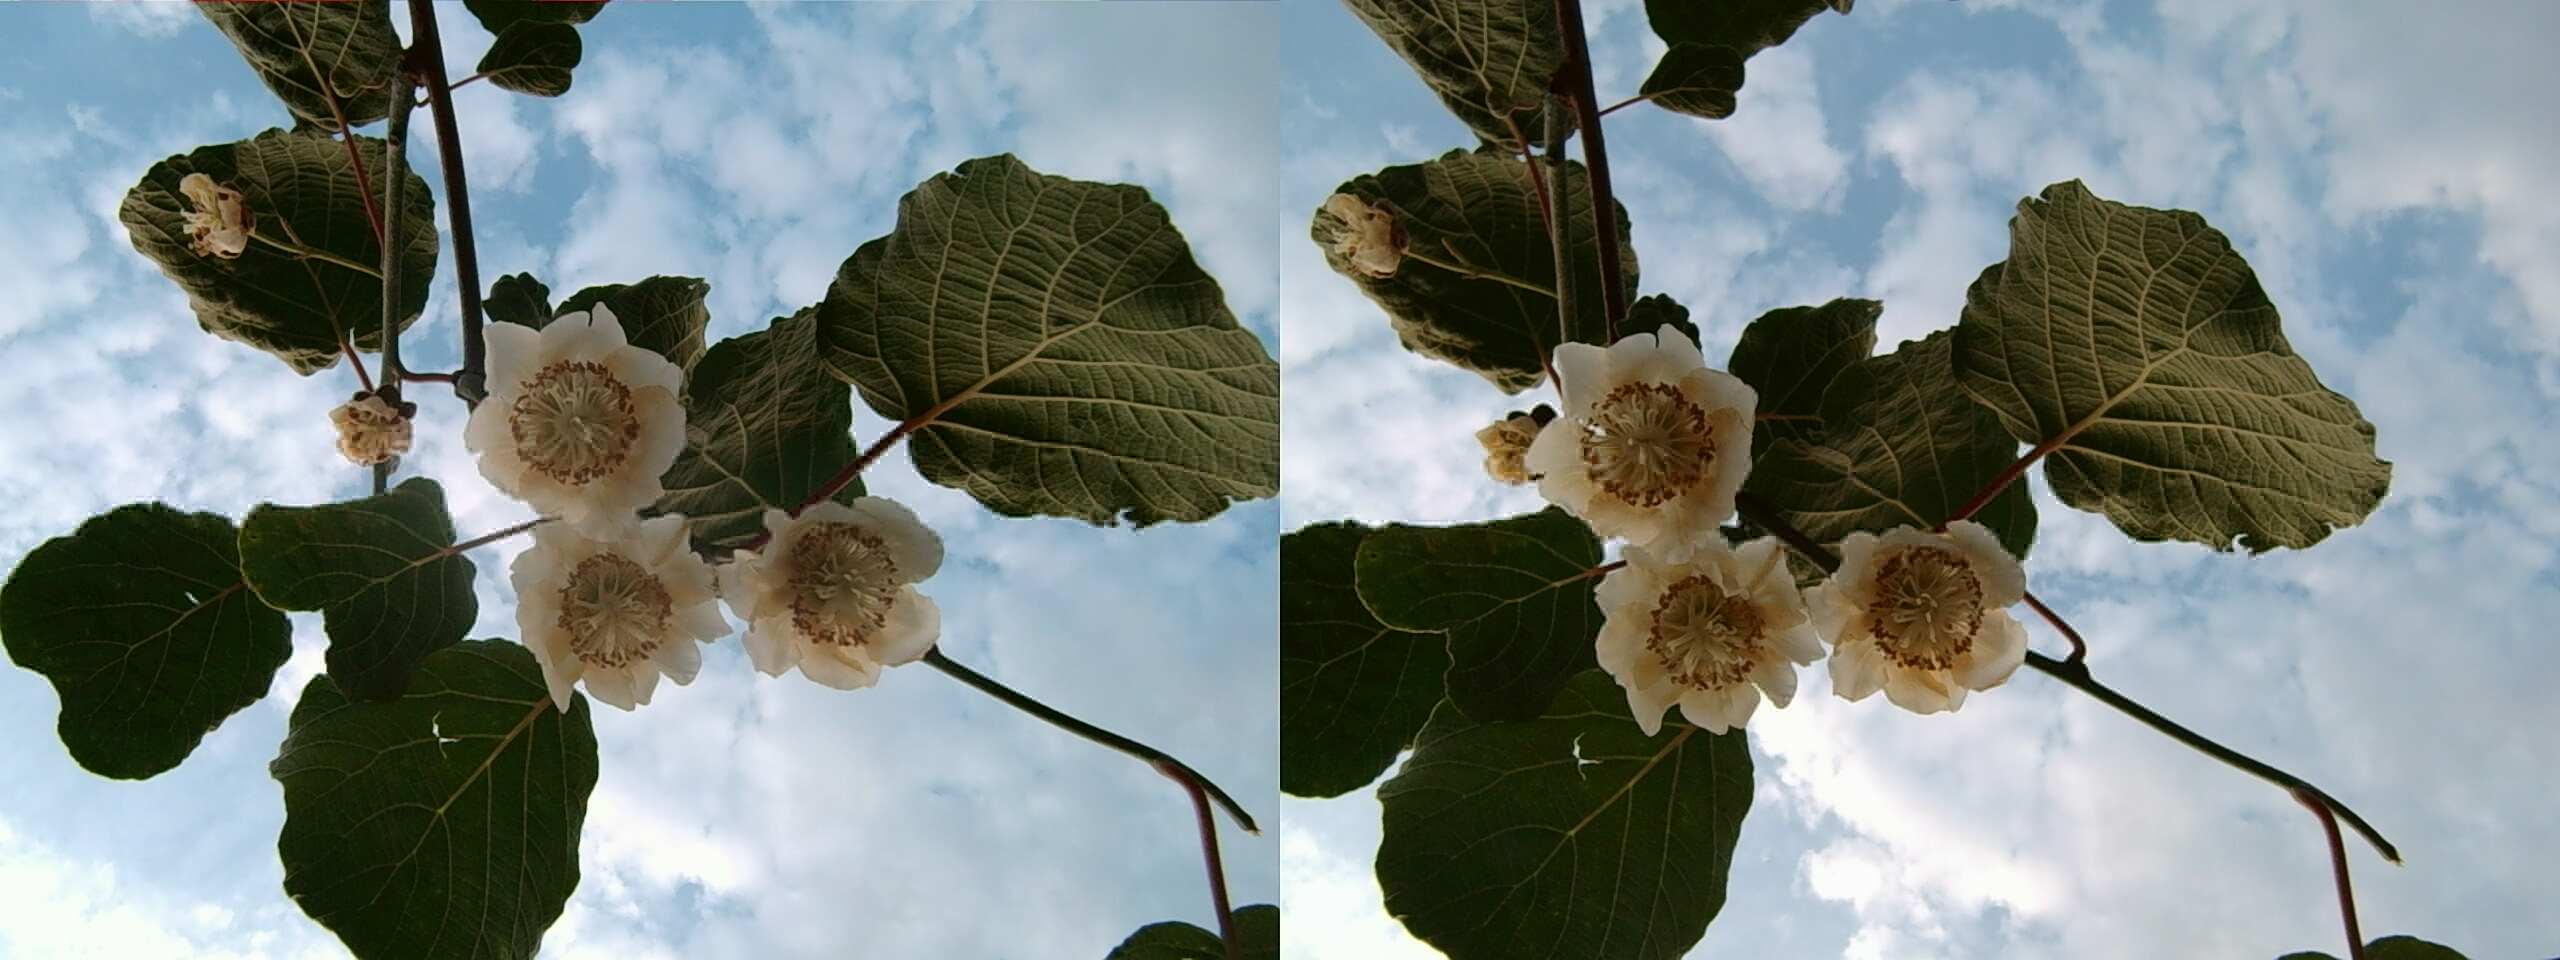flower: (1579, 513, 1824, 736), (1509, 322, 1757, 540), (459, 292, 686, 526), (495, 503, 730, 709), (1807, 504, 2033, 710), (722, 482, 945, 686)
